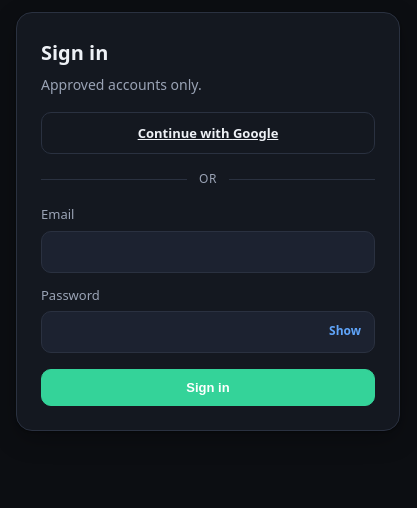
Test: LoginPage › offers Google or email and password, and no sign-up
Type "coach@example.com" into the field labelled "Email" at x=208, y=252, box [41,231,375,273]
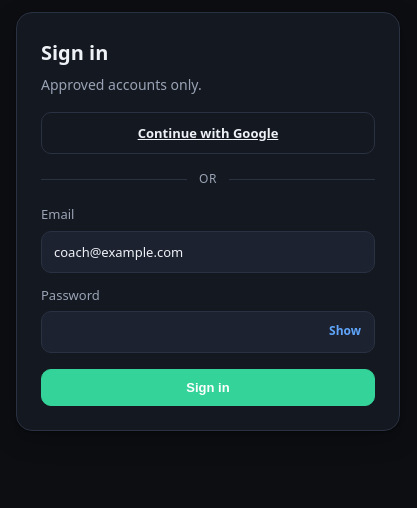
Type "secret" into the password field labelled "Password" at x=208, y=332, box [41,311,375,353]
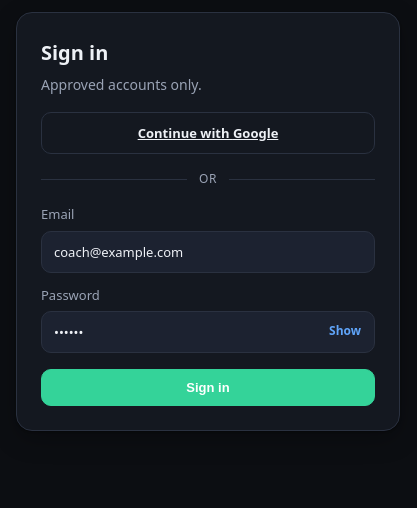
Click the button "Sign in" at x=208, y=388, box [41,369,375,406]
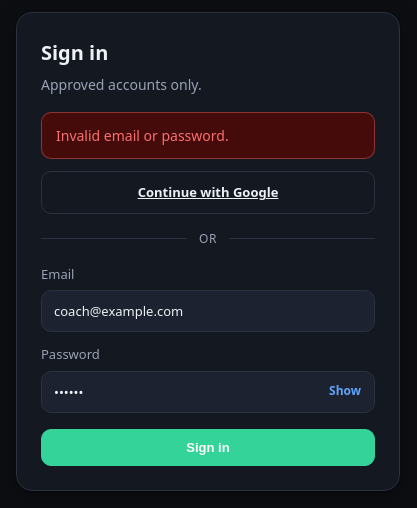
Result: the message reads "Invalid email or password." at [56,126,229,145]
Click the button with aria-label "Show password" at x=345, y=391, box [323,378,367,405]
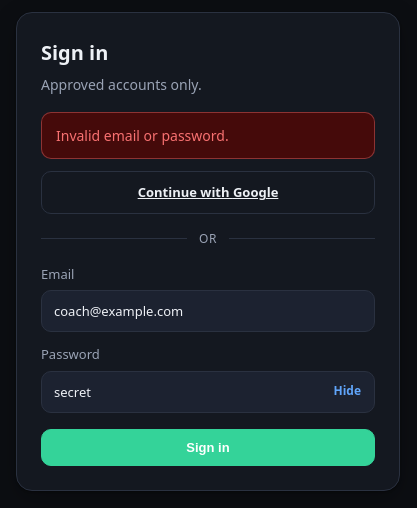
Result: the field labelled "Password" shows its text at [41,370,375,413]
Click the button with aria-label "Hide password" at x=347, y=391, box [328,378,367,405]
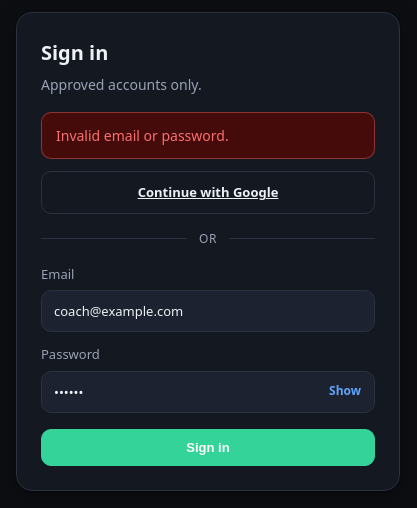
Result: the password field labelled "Password" hides its text at [41,370,375,413]
